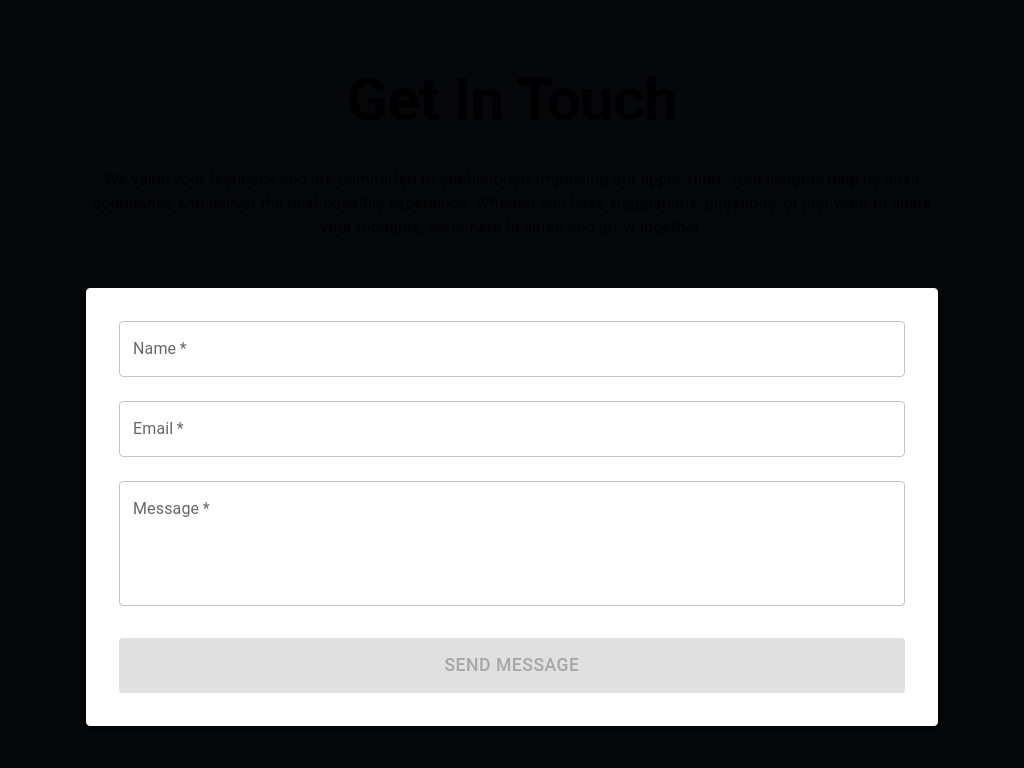
Scenario: Contact Component › handles form submission successfully
In the field labelled "Name *": (512, 349) x1=119 y1=321 x2=905 y2=377, type "John Doe"
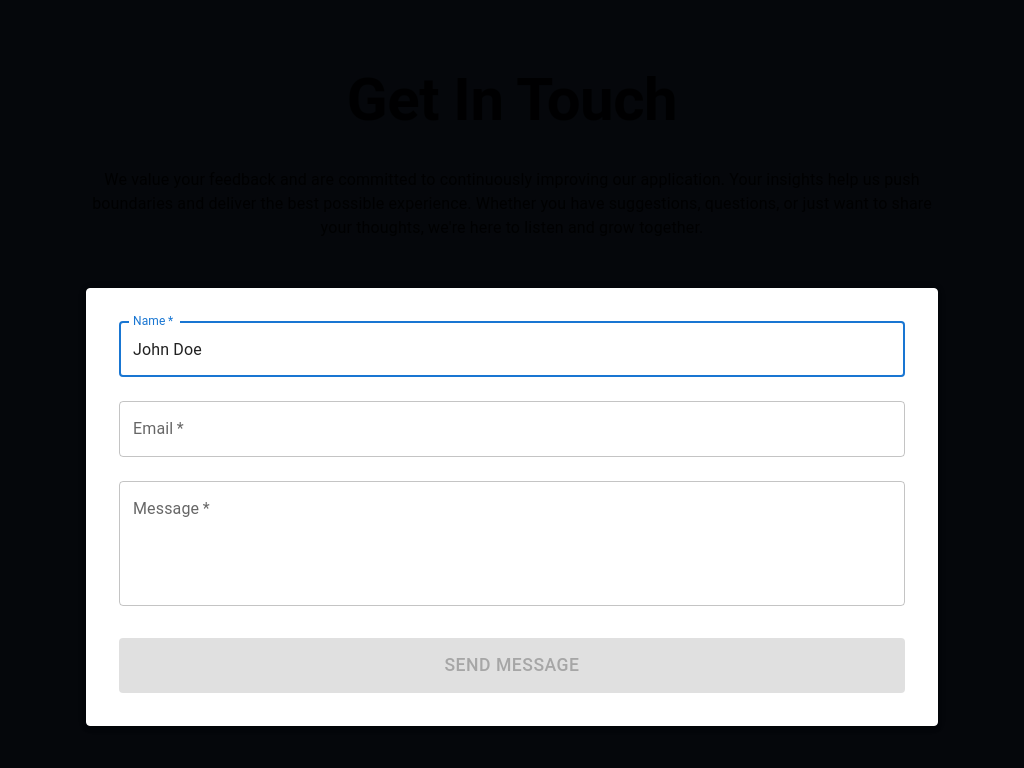
In the field labelled "Email *": (512, 429) x1=119 y1=401 x2=905 y2=457, type "john@example.com"
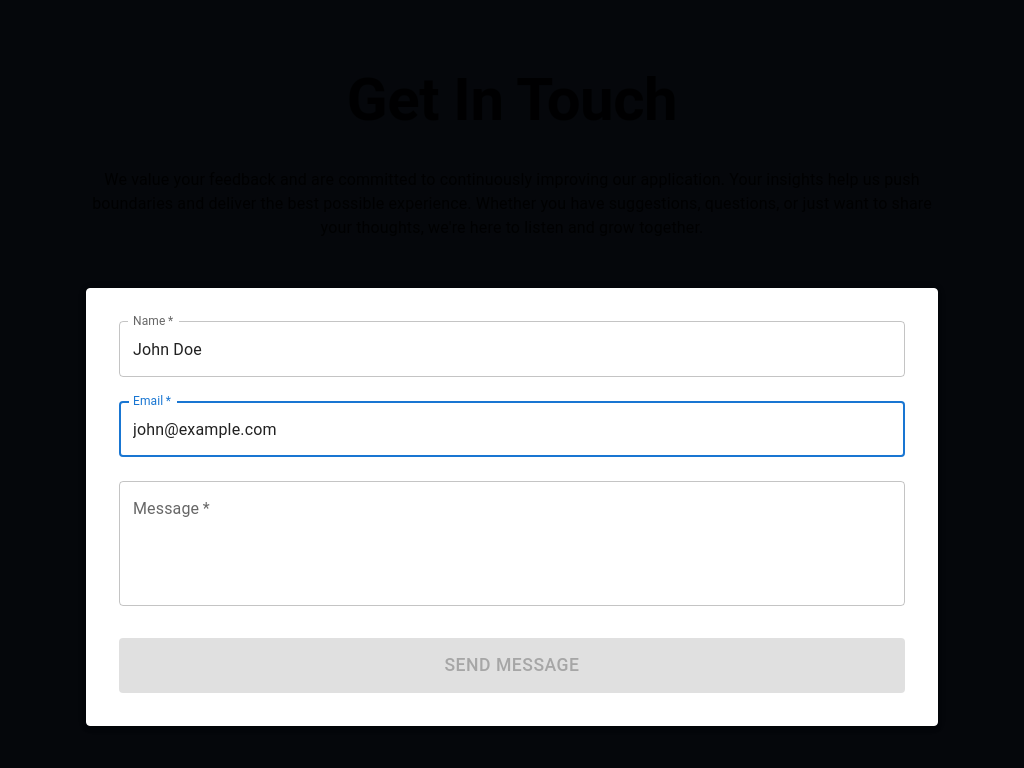
In the text box labelled "Message *": (512, 544) x1=133 y1=498 x2=891 y2=590, type "Test message"
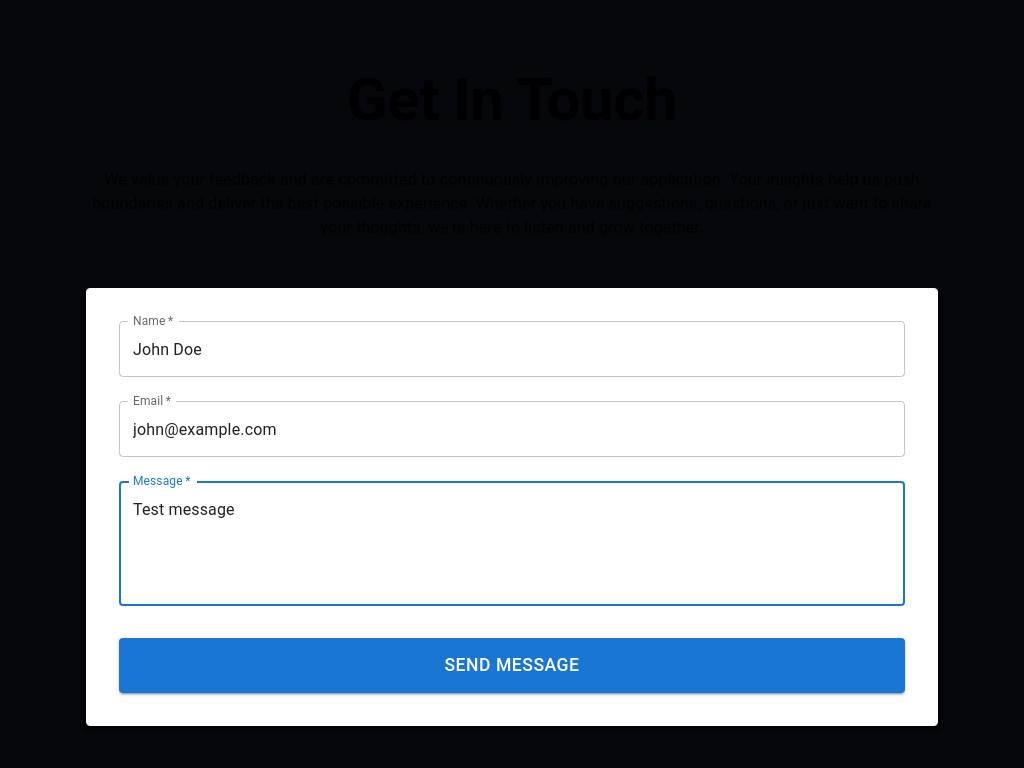
Submit the form "Name * Email * Message * Send Message", box x1=119 y1=321 x2=905 y2=693
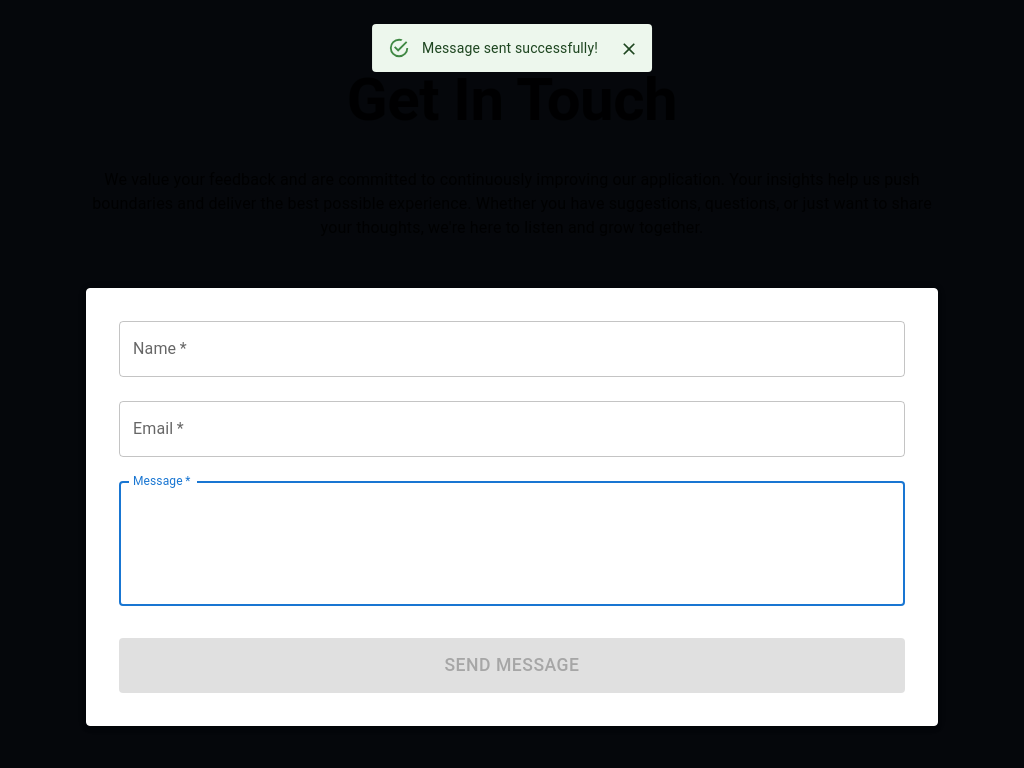
Expected: the text "Message sent successfully!" is shown, x1=422 y1=40 x2=598 y2=56
